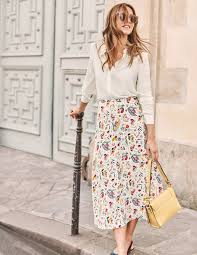C_skirt: (84, 97, 172, 231)
